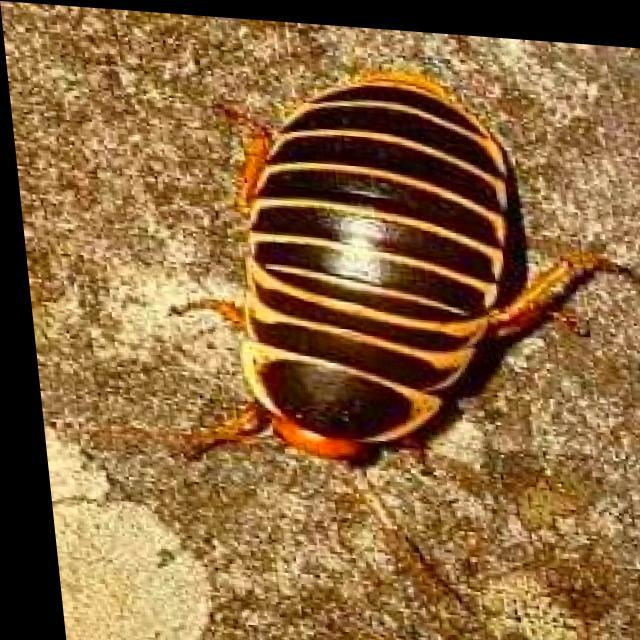cockroach: (170, 65, 636, 470)
